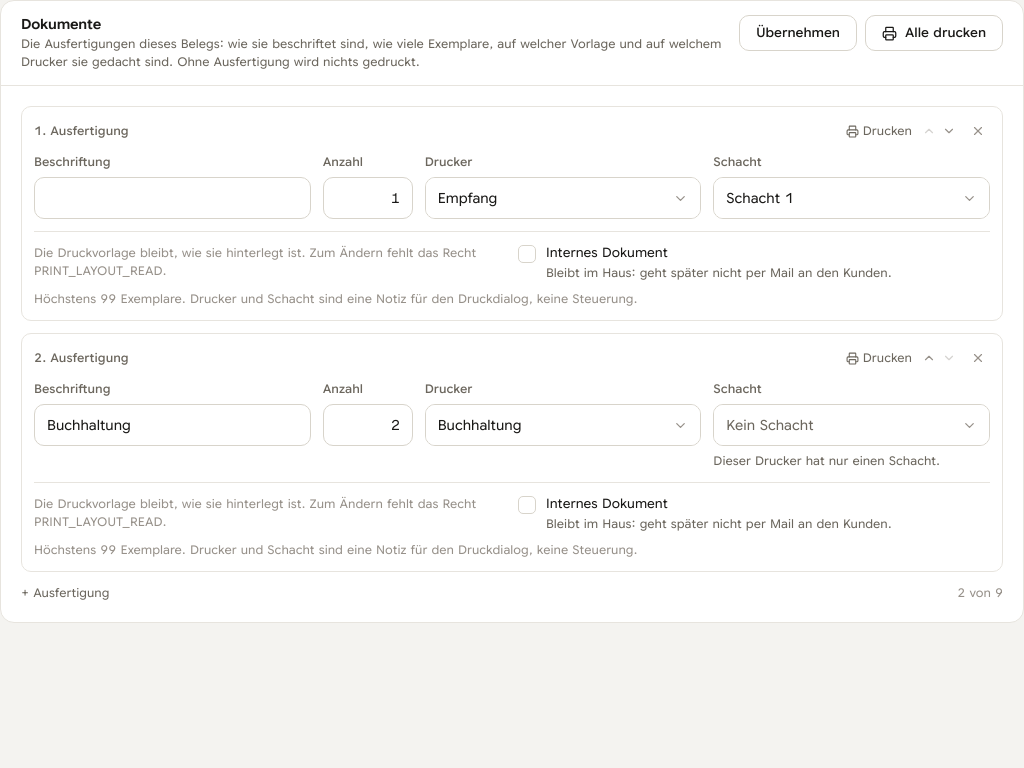
Scenario: DocumentPrintouts › orderPrintoutsRefusesAnEmptyLabelTest
Clear the field labelled "Beschriftung" below "1. Ausfertigung" at [172, 198], box [35,178,310,218]
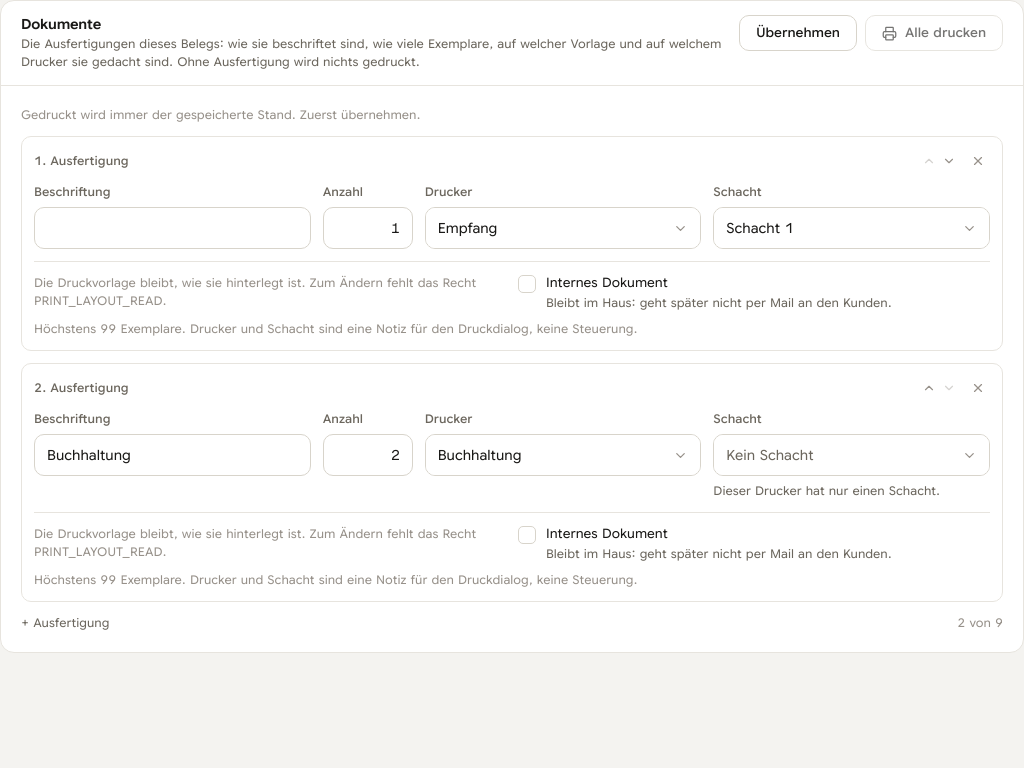
Click the button "Übernehmen" at [798, 33], box [739,15,857,51]
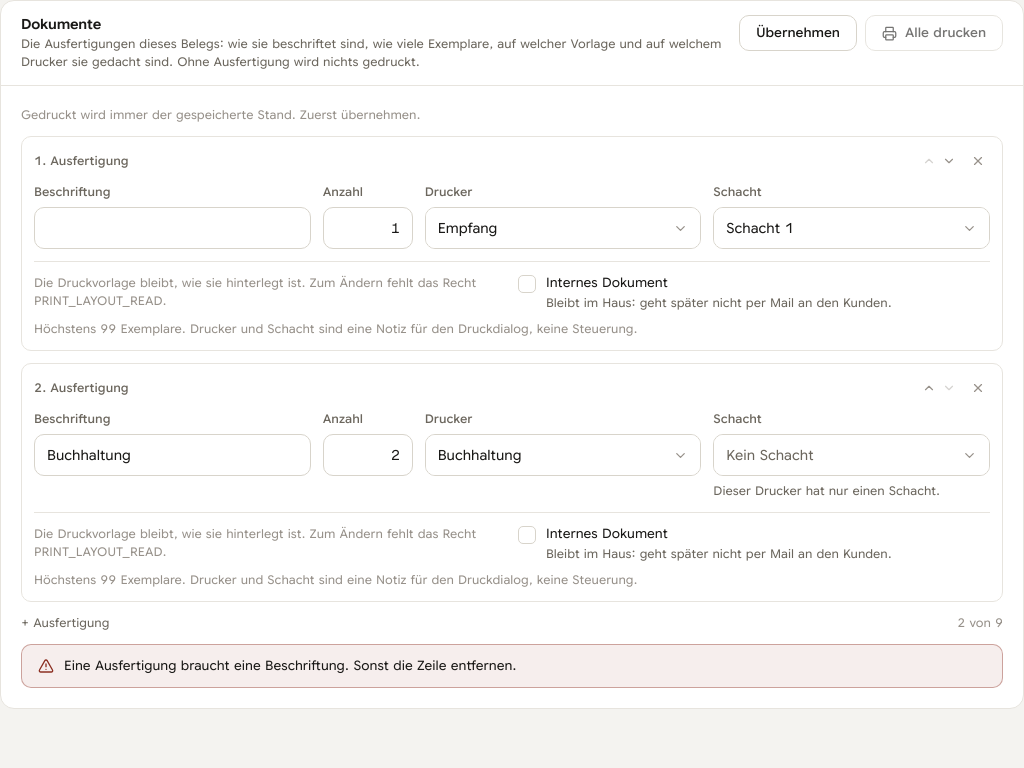
expect the text "Eine Ausfertigung braucht eine Beschriftung." is shown: met, box [64,657,517,674]
